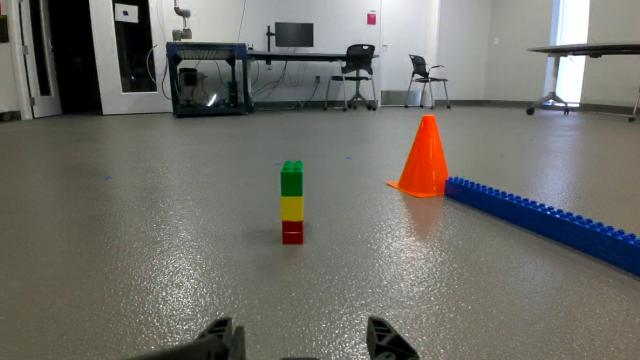lego: (276, 152, 307, 259)
